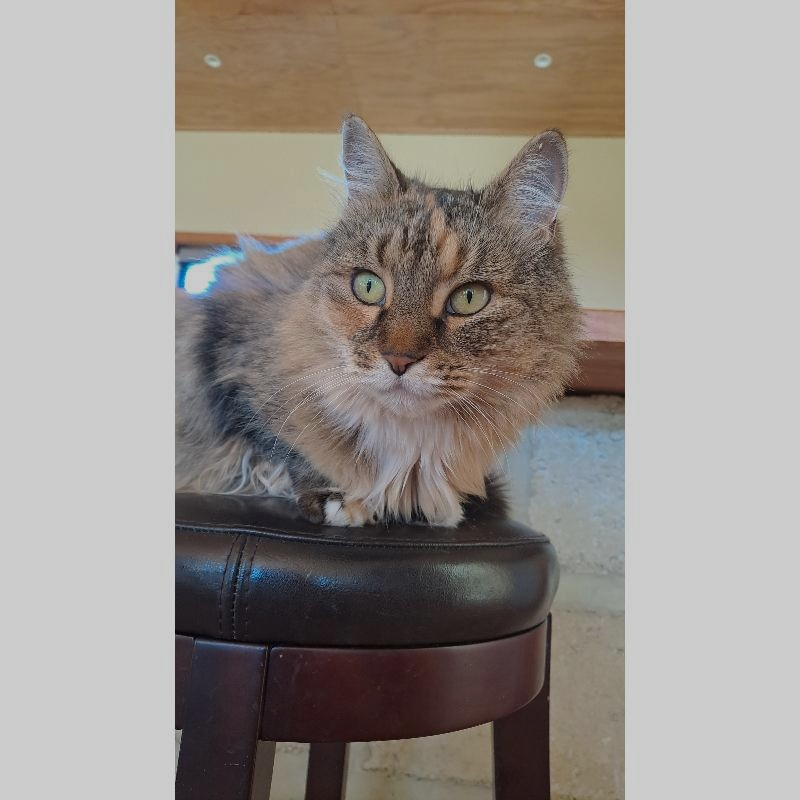yellow: (177, 112, 583, 530)
